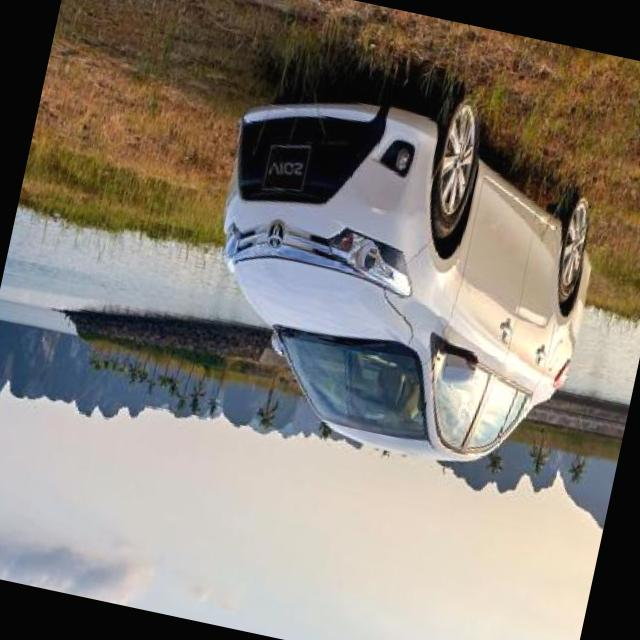ToyotaVios: (175, 40, 626, 488)
